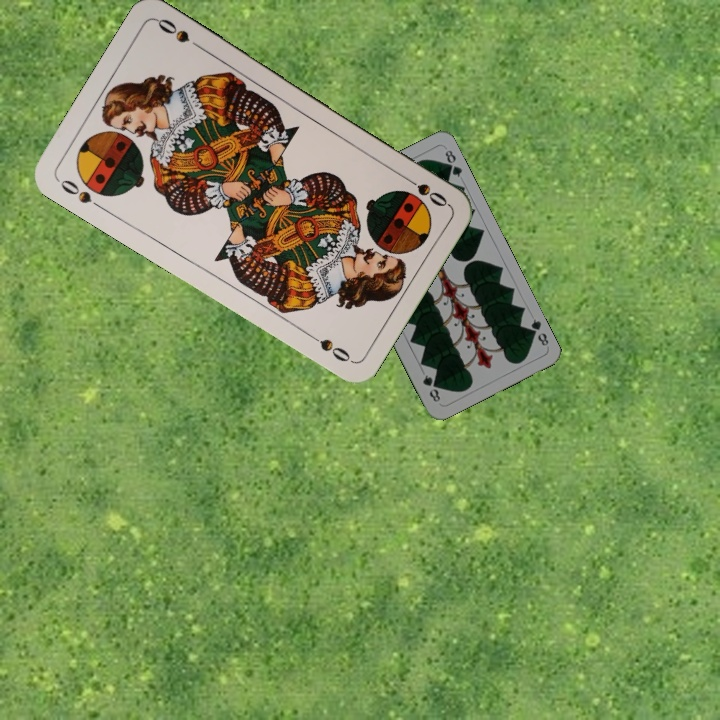G8: (523, 315, 551, 349)
SO: (397, 171, 451, 210), (53, 175, 107, 213)
